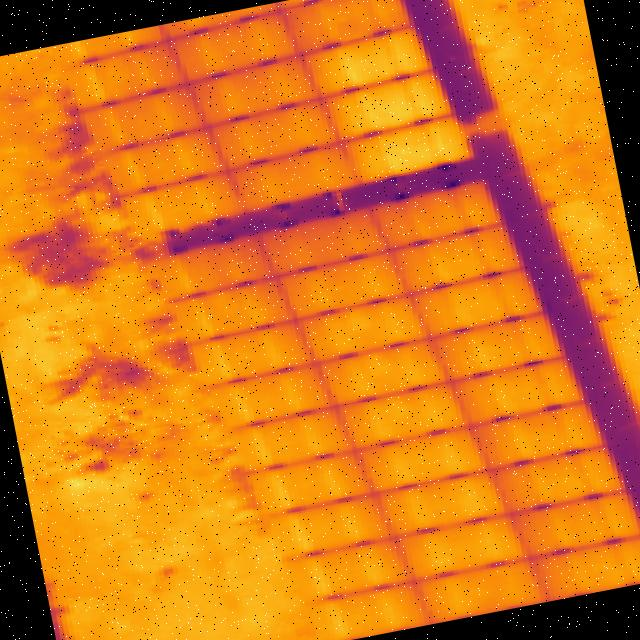Hotspot: (360, 108, 516, 188), (307, 18, 446, 98), (328, 65, 466, 142)
